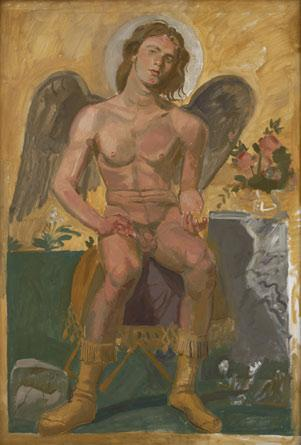person: (51, 21, 229, 431)
